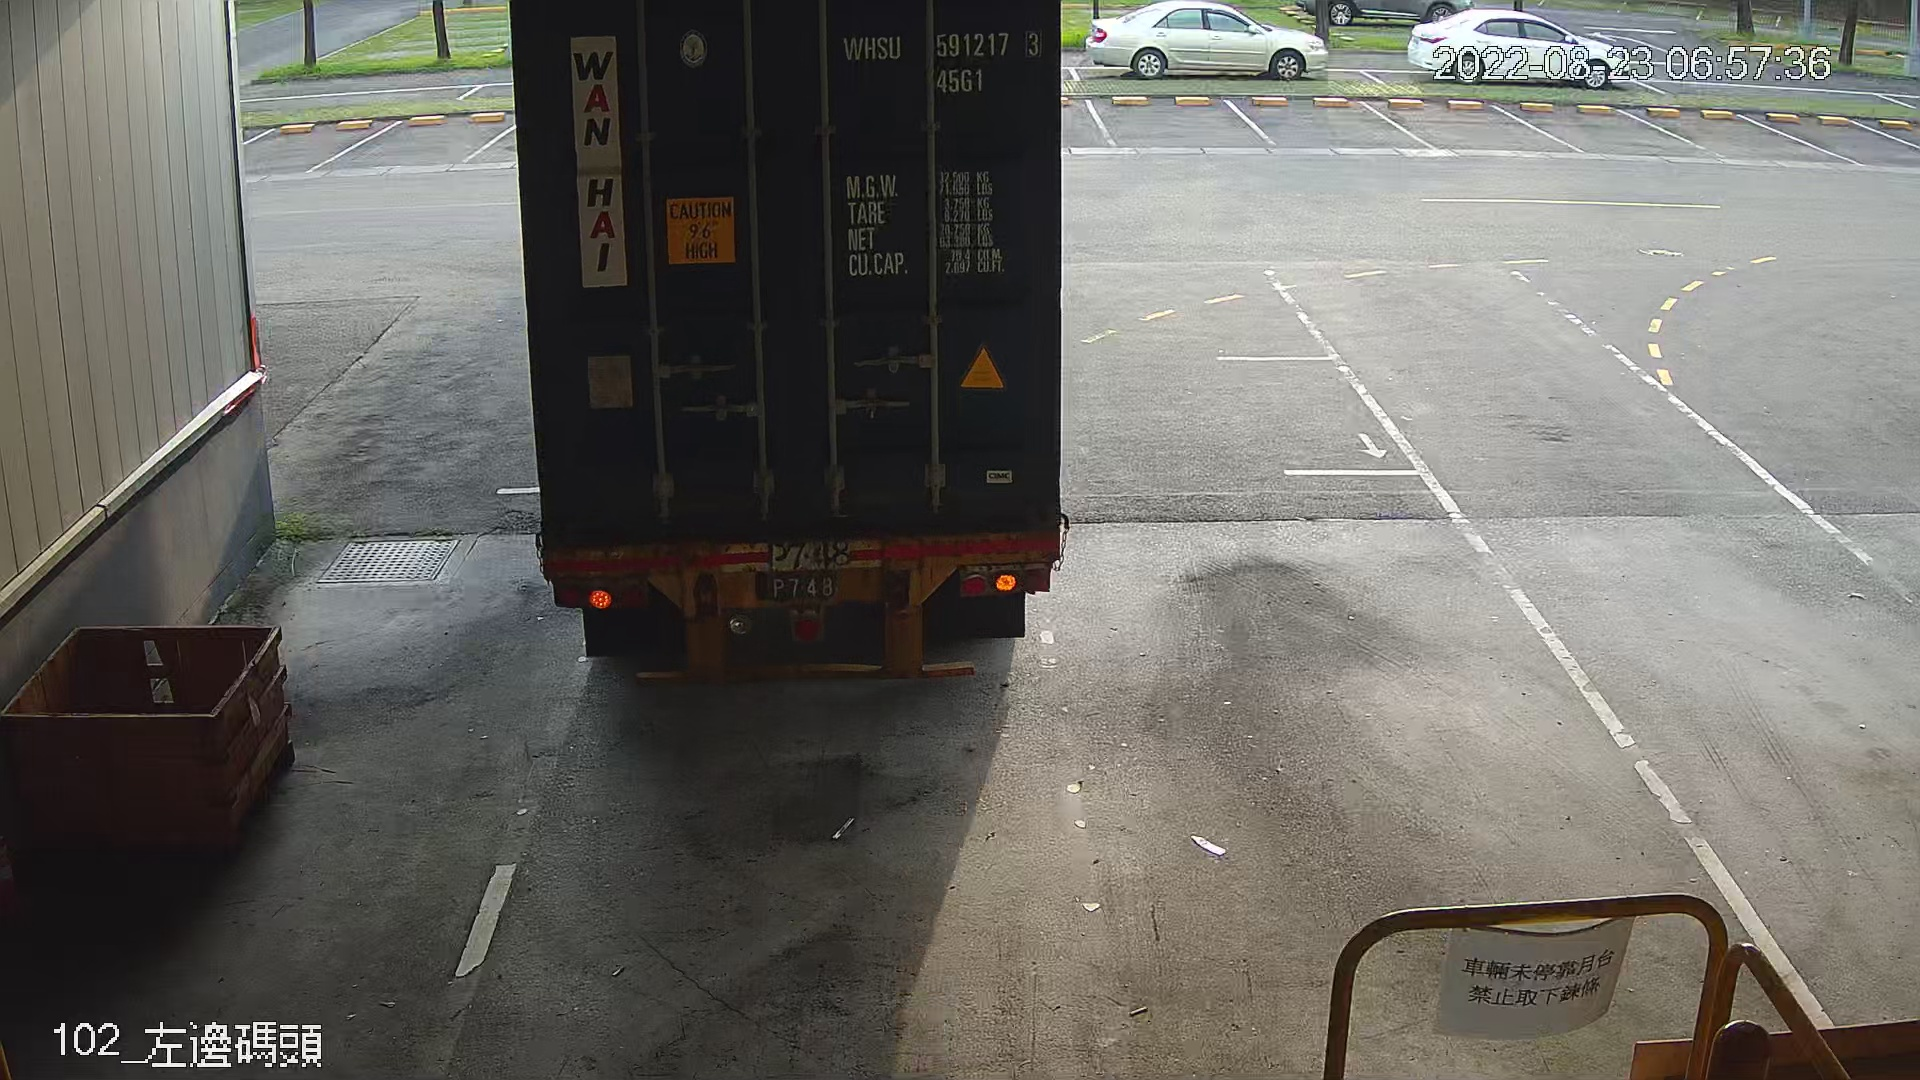container: (837, 24, 1051, 98)
